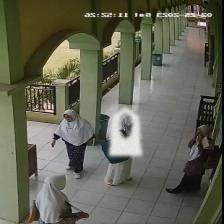Mukena: (109, 106, 141, 156)
